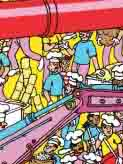waldo: (60, 52, 73, 71)
